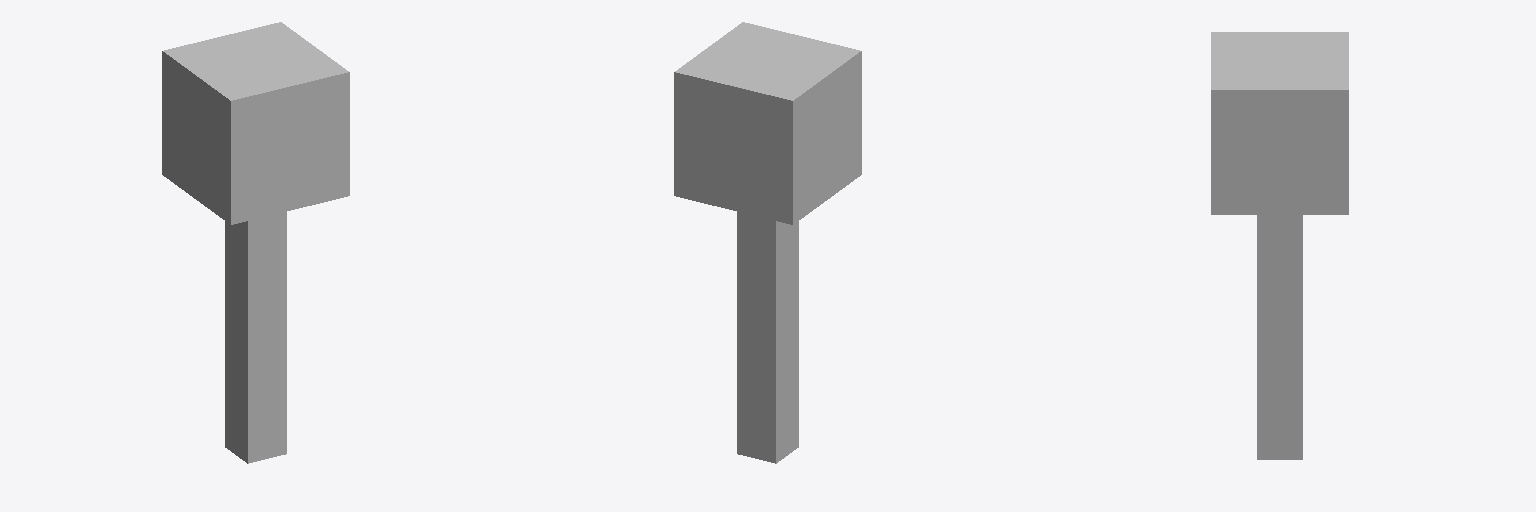
File: tree1.obj
The picture shows the model from 3 angles: view 1: azimuth 30°, elevation 25°; view 2: azimuth 150°, elevation 25°; view 3: azimuth 270°, elevation 25°; orthographic projection.
Parts seen in each view (by area): view 1: object 1; view 2: object 1; view 3: object 1.
Boxes of the visible parts, x1,y1,x2,y2 form: object 1: [162, 22, 349, 463]; object 1: [674, 22, 861, 463]; object 1: [1211, 32, 1348, 459].
Bounding box in the file's own units: 1.5 × 4.7 × 1.5.